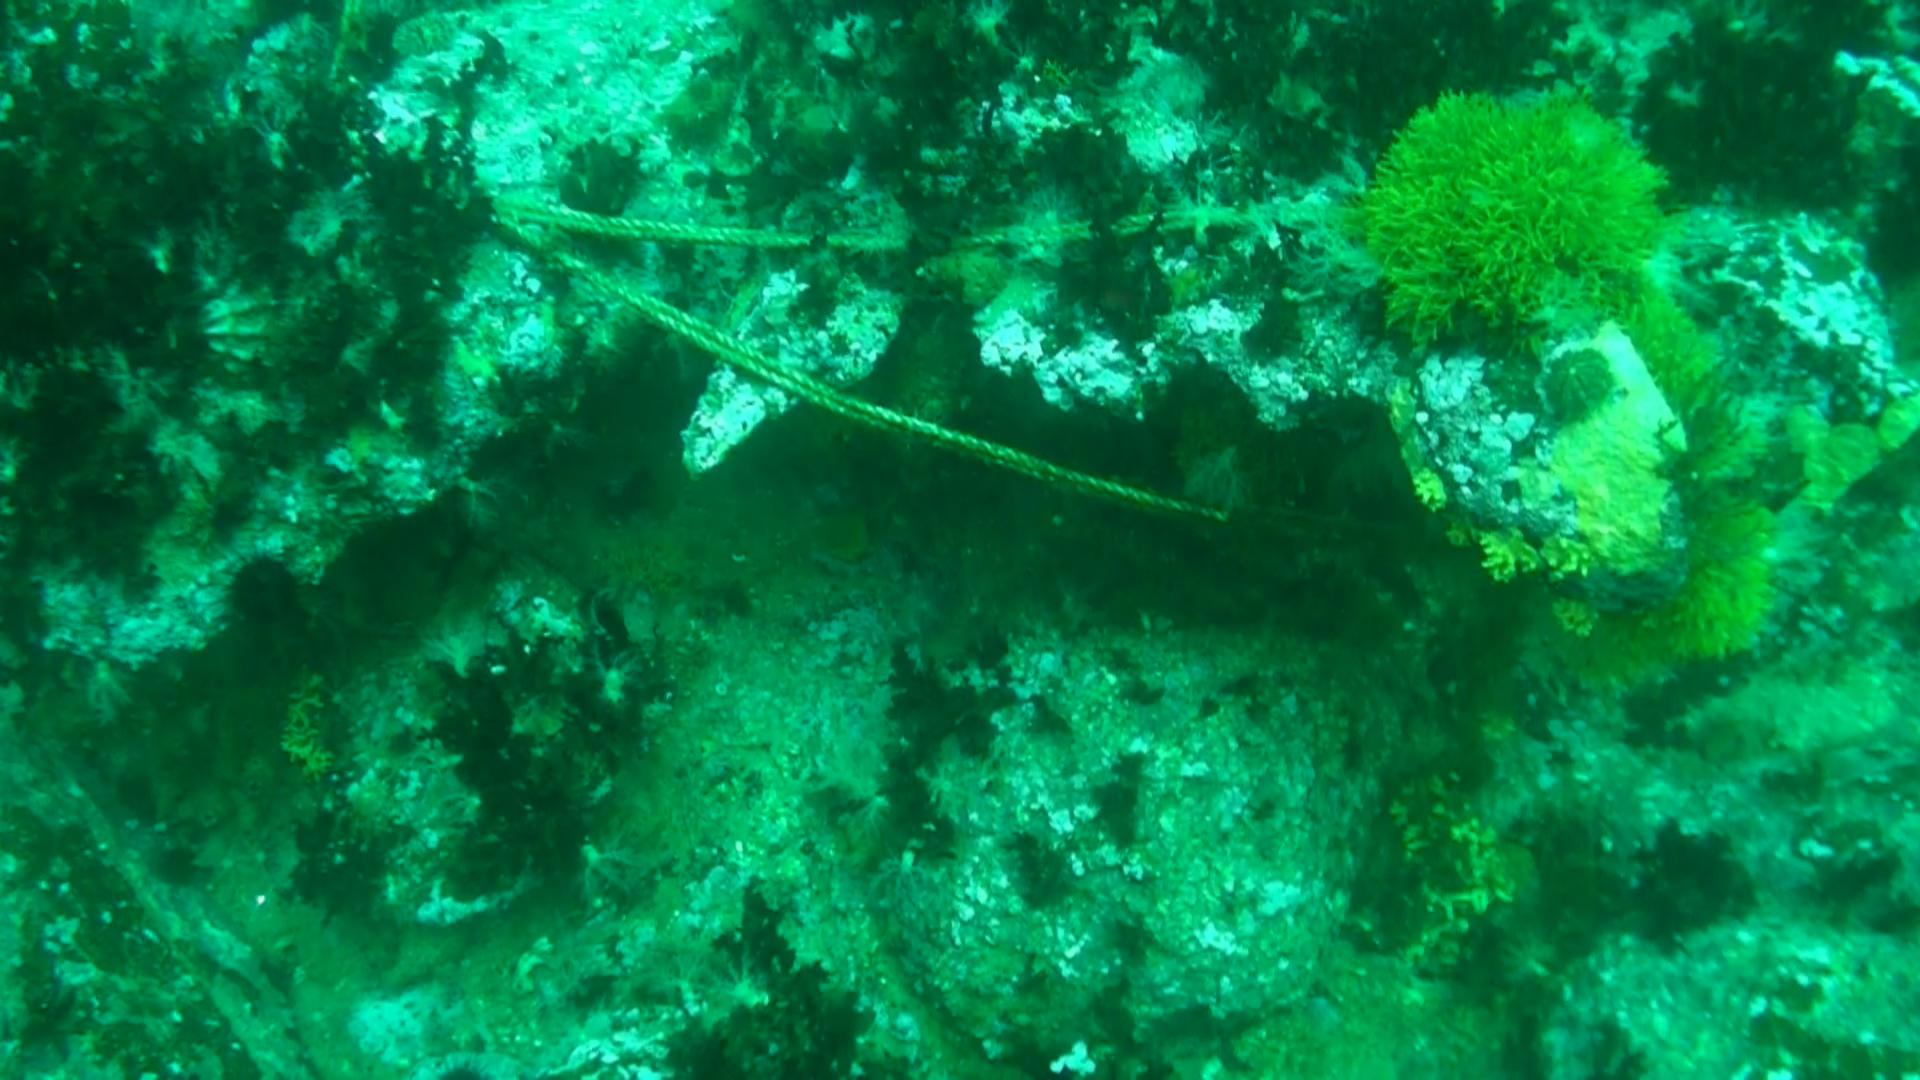bundle of ropes: (484, 212, 1233, 527), (489, 196, 1337, 248)
